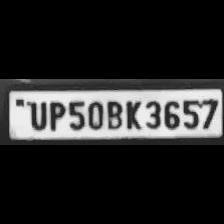0: (86, 98, 104, 130)
3: (142, 97, 162, 129)
5: (64, 97, 86, 131), (180, 96, 200, 130)
6: (160, 97, 180, 129)
7: (198, 96, 218, 130)
B: (104, 98, 122, 130)
K: (122, 97, 142, 130)
P: (46, 98, 64, 132)
U: (25, 98, 48, 130)
